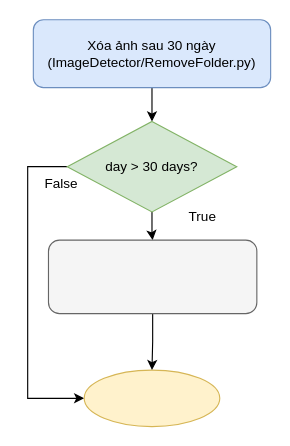
Some shapes in this 290 by 446 pixel diagram are drawn without their labels. Each missing label, with the centre of its shape:
"END" belongs at (x=151, y=398).
"Remove images that day. Keep images from 10 to 11 AM" belongs at (x=152, y=276).
